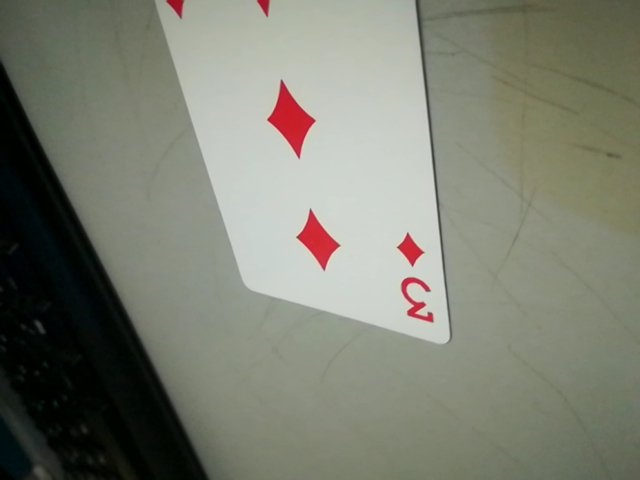fk 3: (386, 227, 442, 335)
